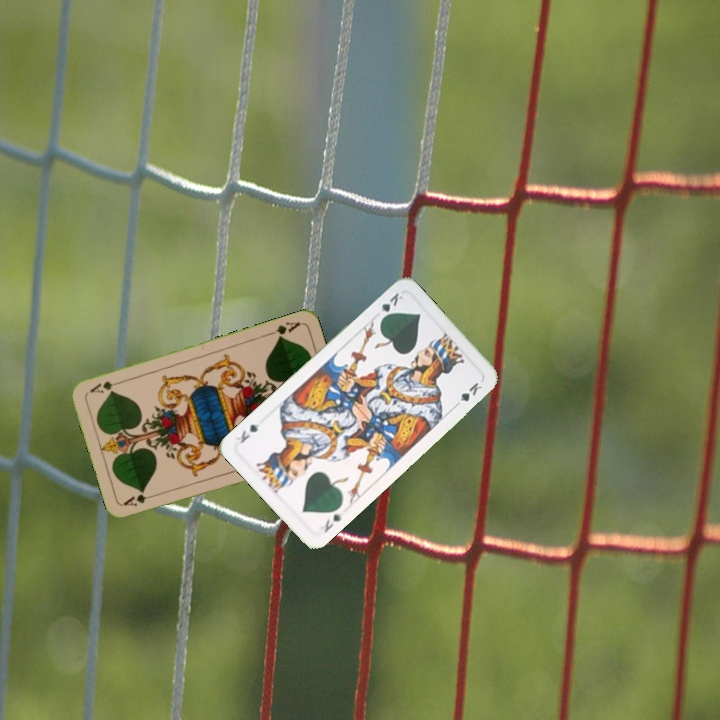GA: (264, 318, 303, 341), (119, 490, 160, 509)
GK: (375, 288, 405, 323), (320, 508, 345, 535)
